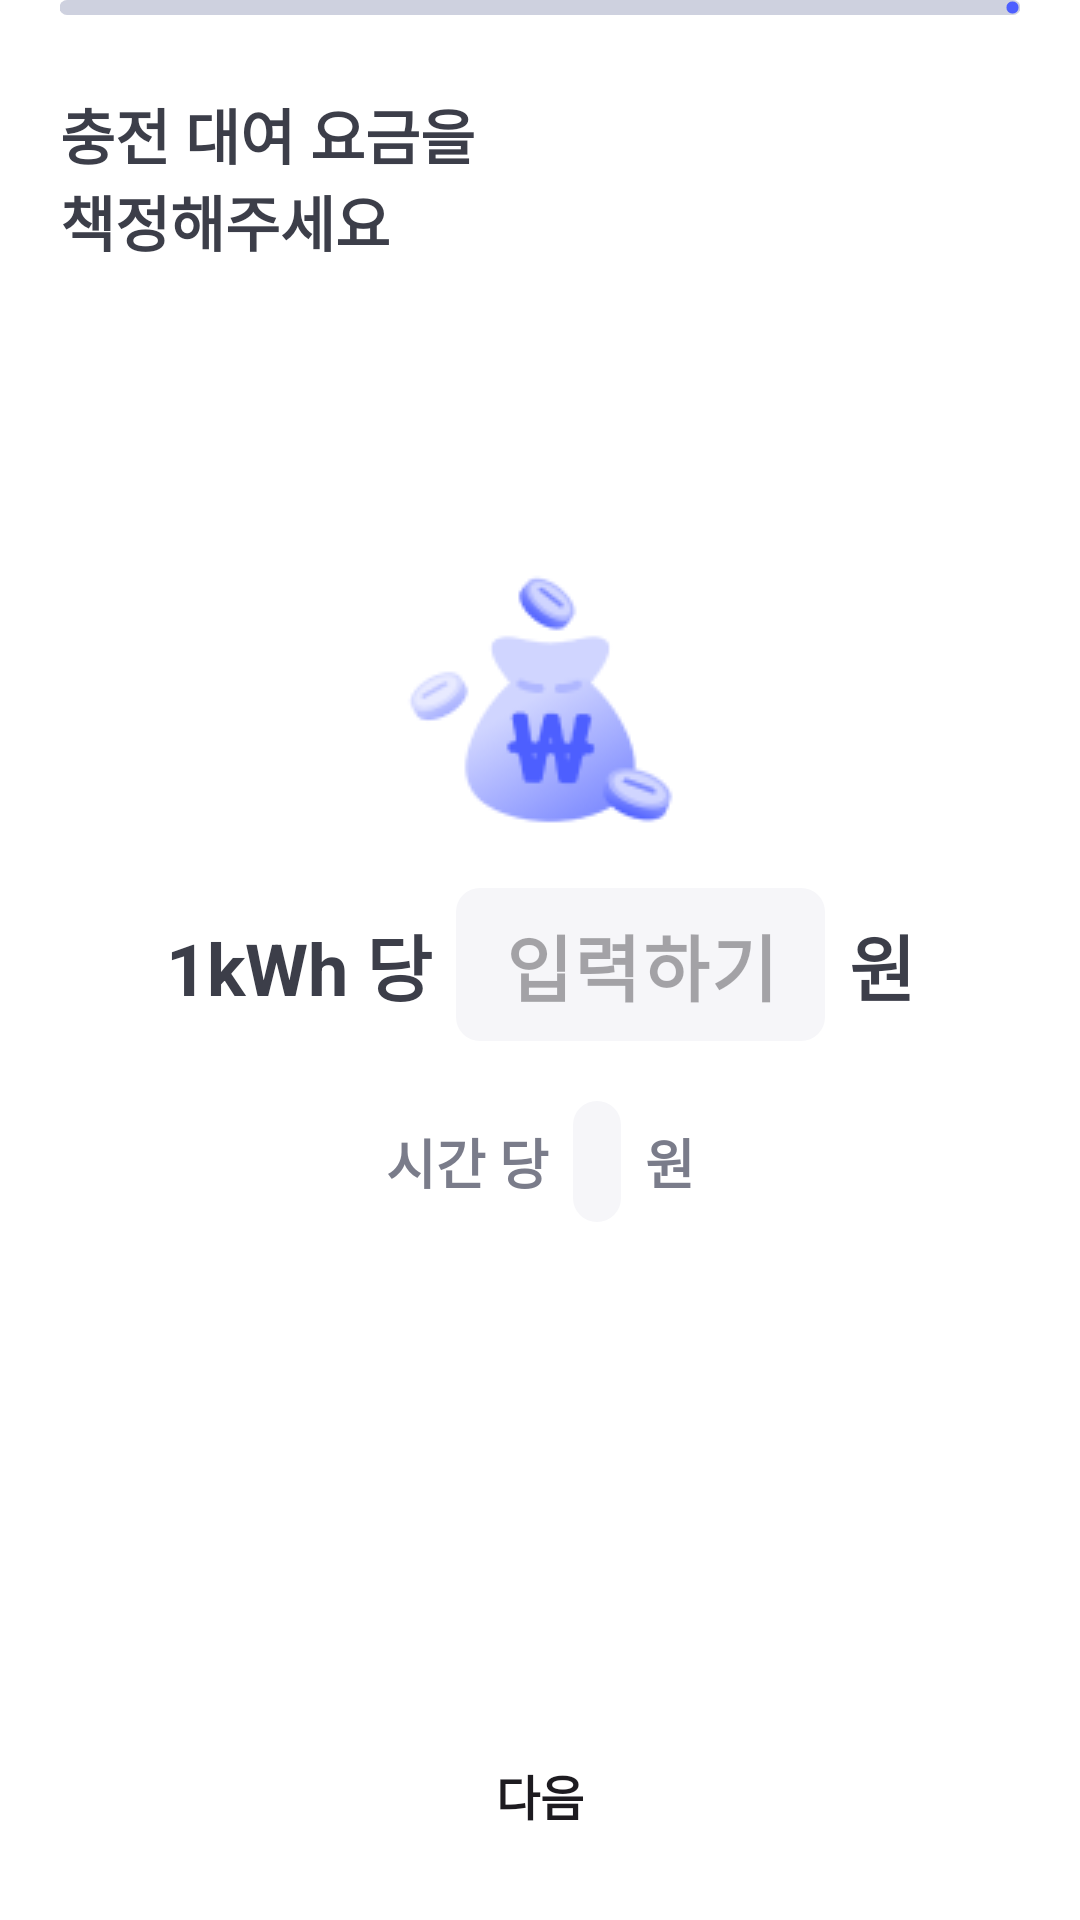

Where icons sit on this 1080x1920 app screen, as bbox(x1, y1, x2, y2):
가격 책정 아이콘: bbox(411, 578, 672, 823)
